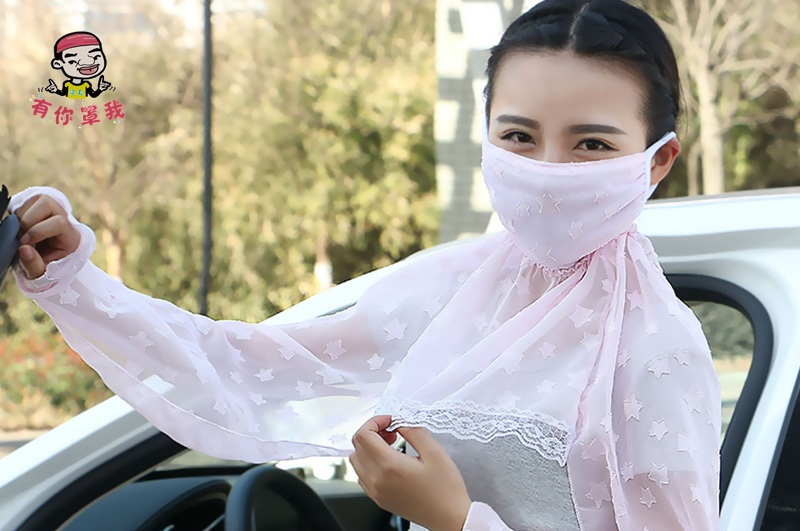face_mask: (485, 52, 644, 265)
